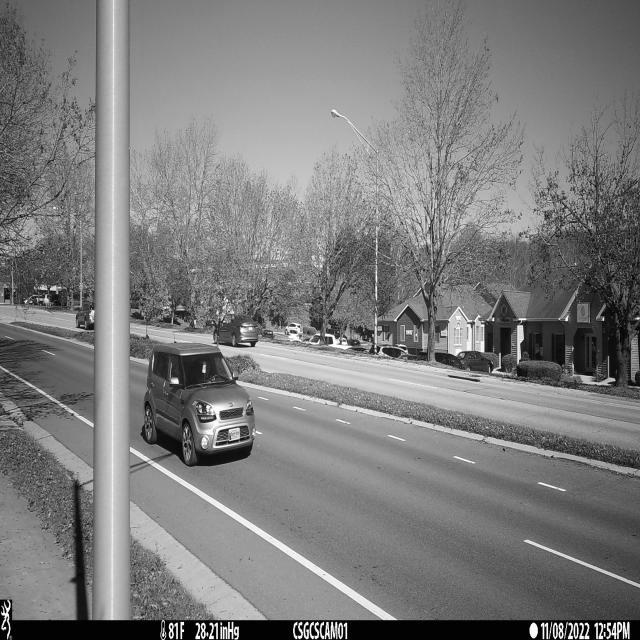Hatchback: (142, 343, 255, 466)
